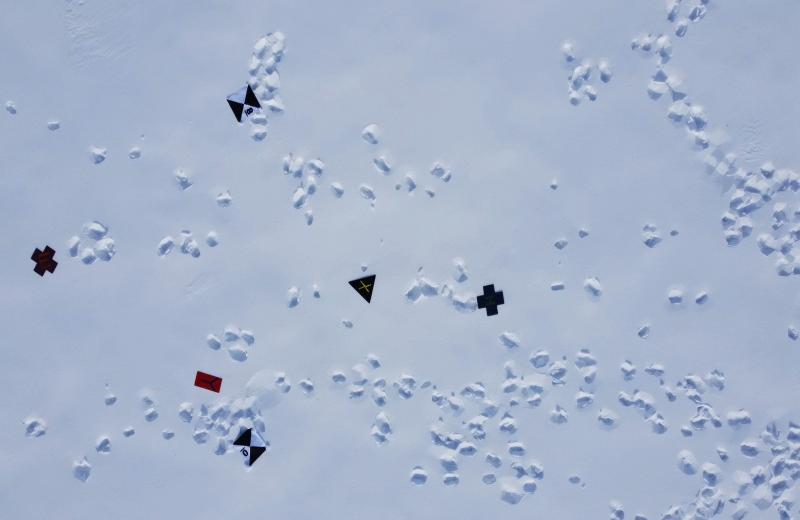Cross: (474, 281, 508, 319), (29, 245, 59, 280)
Rectangle: (191, 366, 226, 396)
Triangle: (344, 270, 379, 306)
